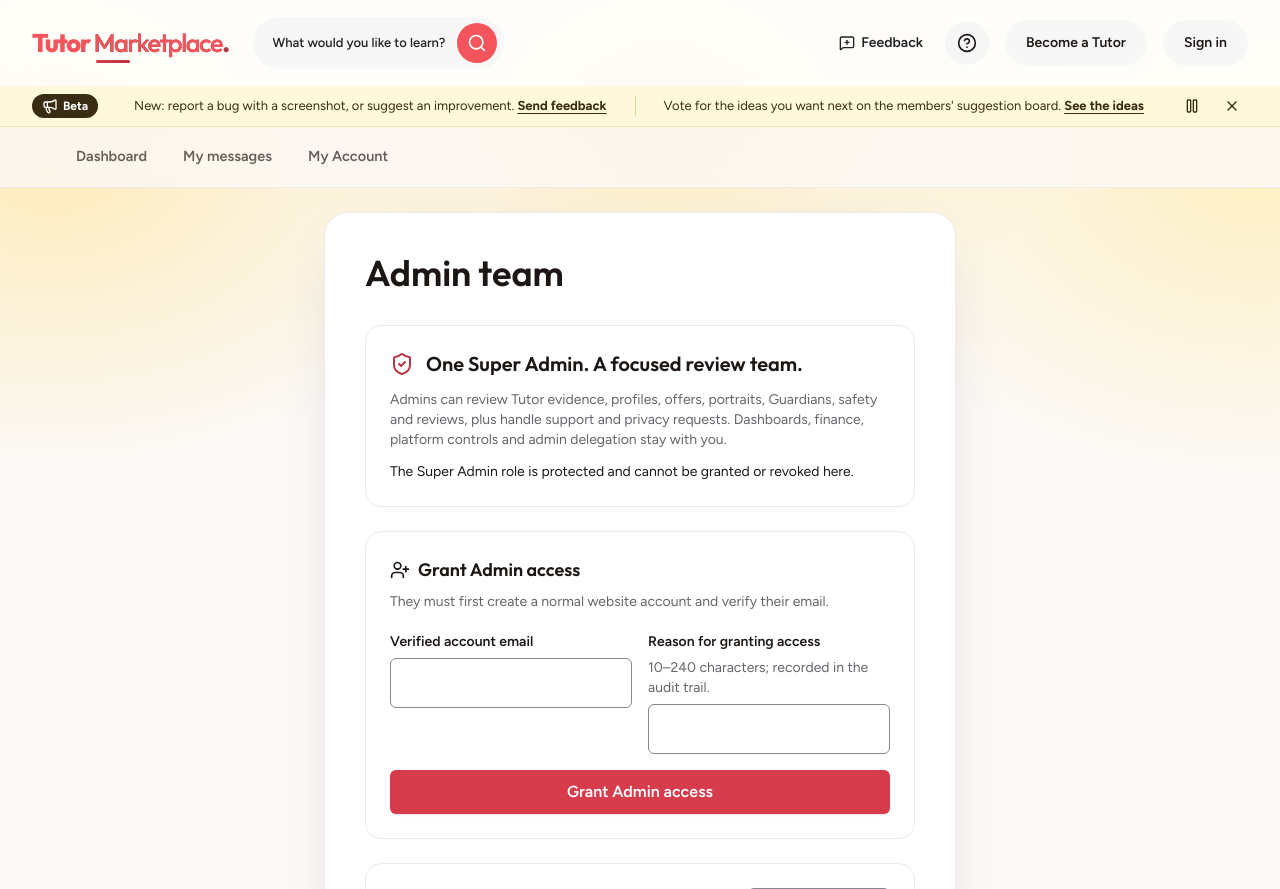
Test: Super Admin grants verified-account access and preserves the protected owner row
The image size is (1280, 889).
In the field labelled "Verified account email": point(511, 683) [390,658,632,708], type "reviewer@example.invalid"
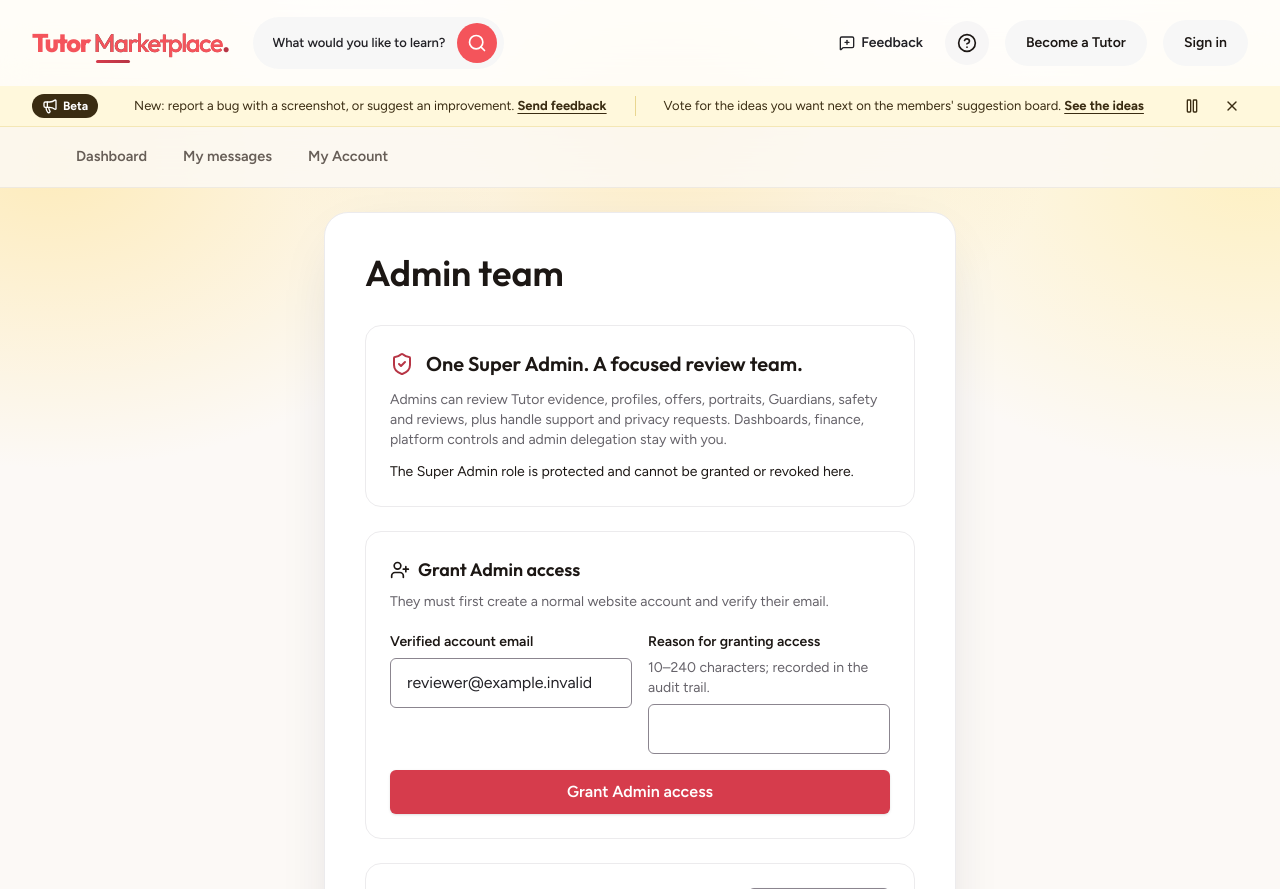
In the field labelled "Reason for granting access": point(769, 729) [648,704,890,754], type "Assign daily review work"
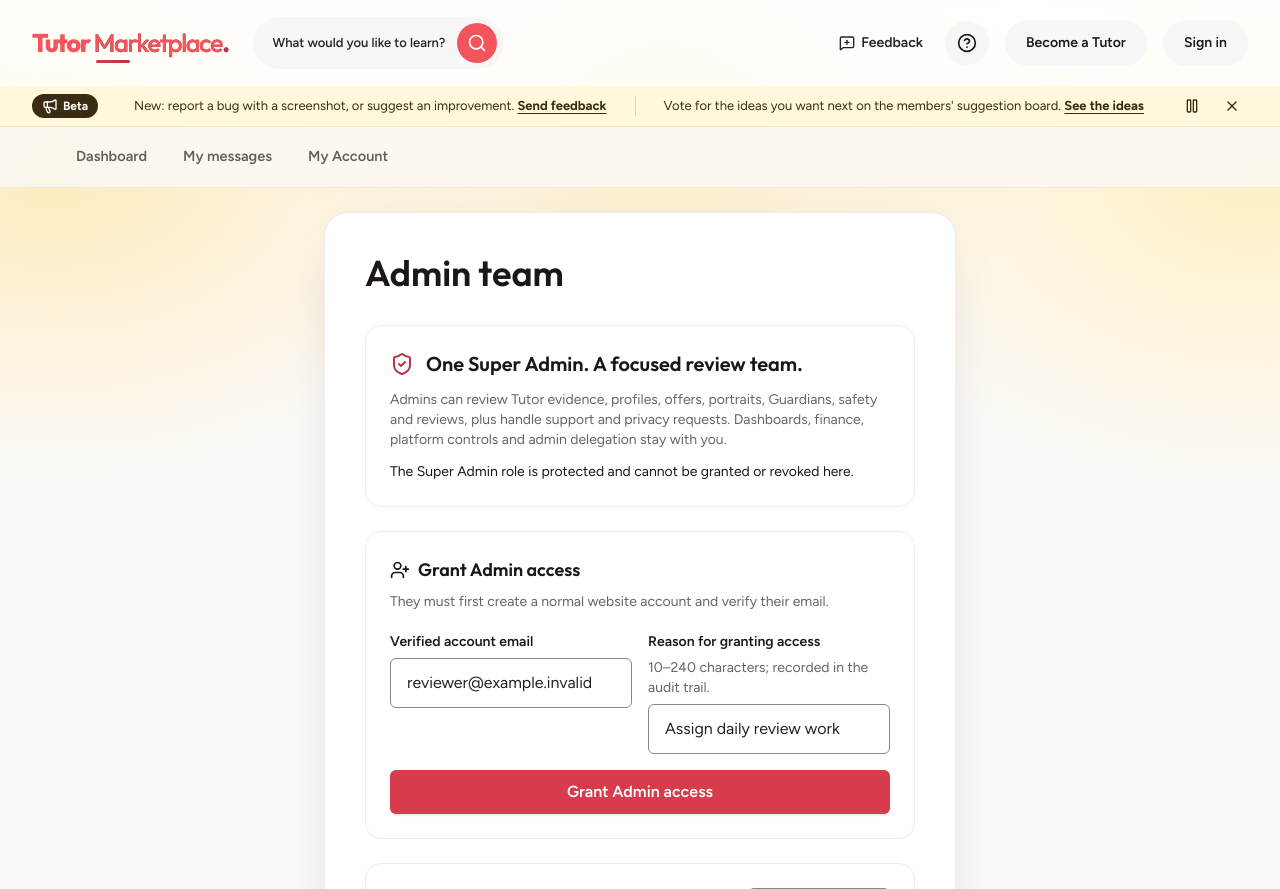
Submit the form labelled "Verified account email", box [390,632,890,814]
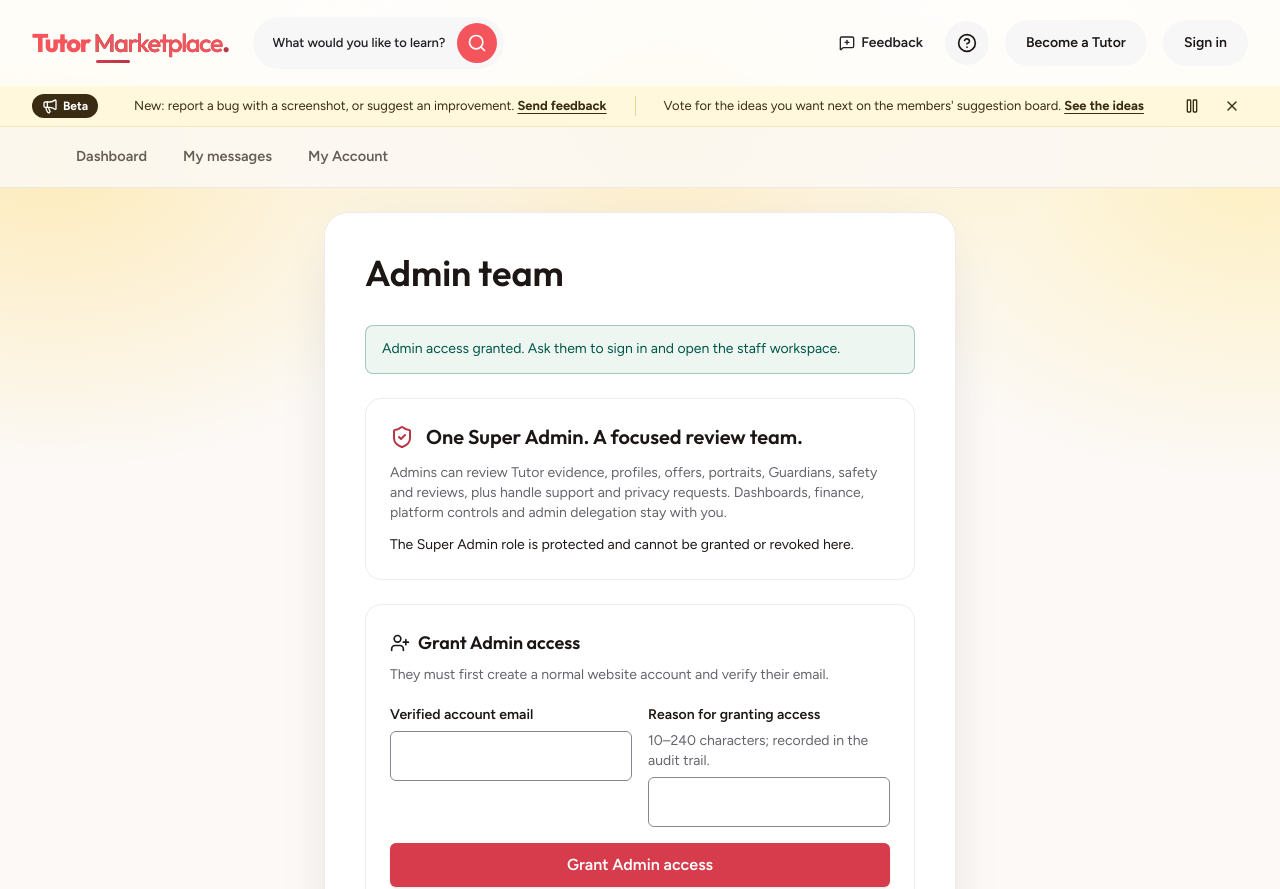
Expected: the text "Admin access granted. Ask them to sign in and open the staff workspace." is shown, [365,325,915,374]
